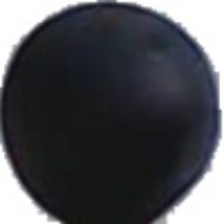grapes: (30, 52, 179, 207)
